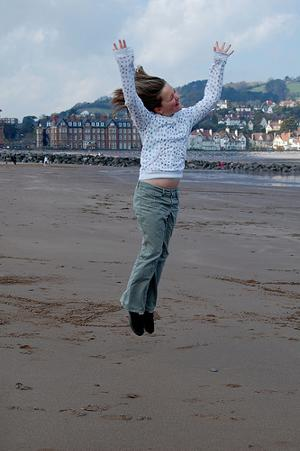person: (115, 35, 233, 340)
